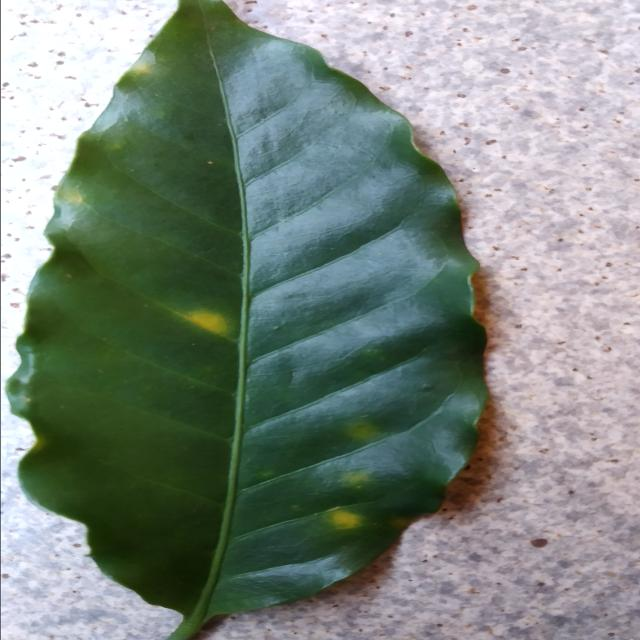Enfermedad-Roya: (13, 0, 491, 640)
